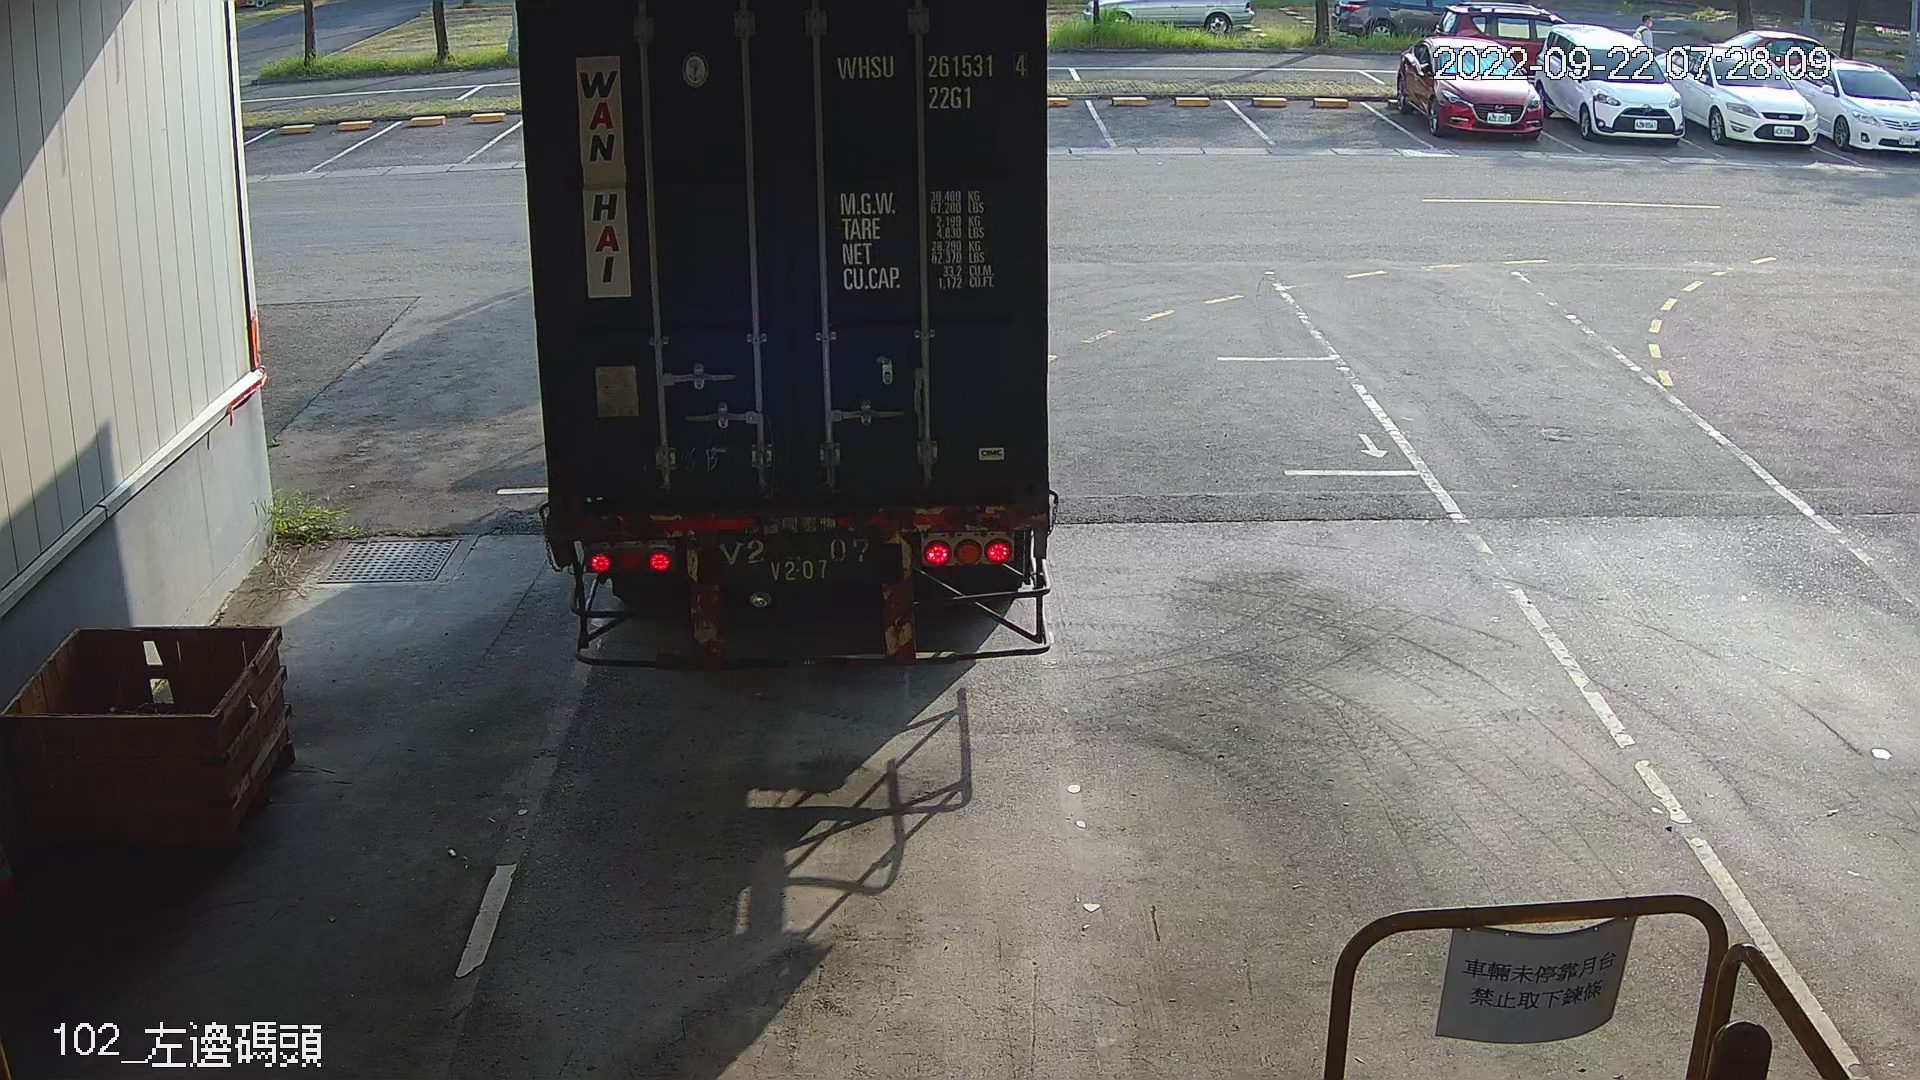container: (831, 45, 1035, 119)
